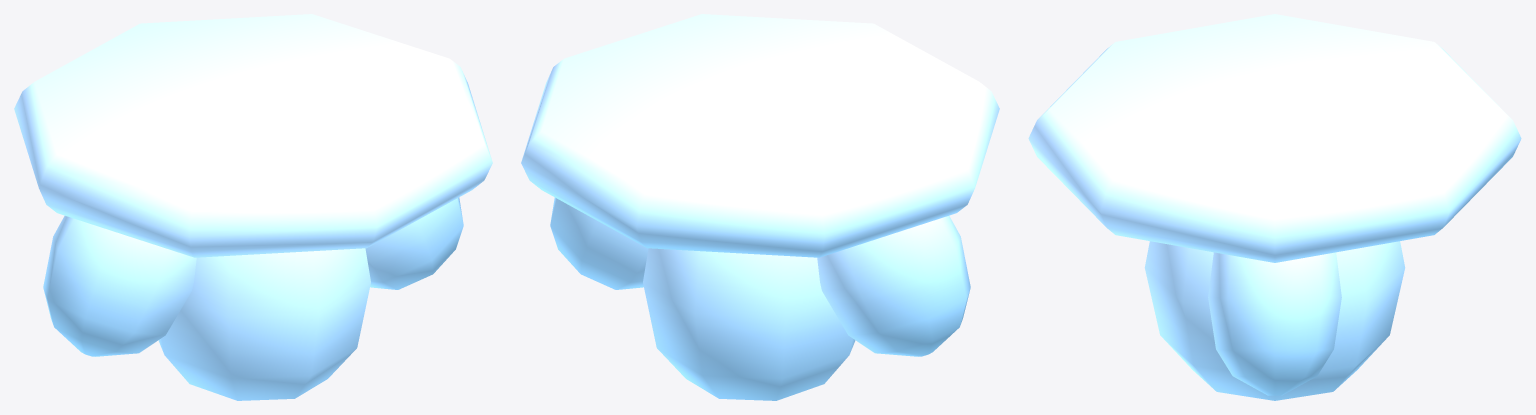
Rendered from steel_pommel_090.glb.
3 views of the same model, side by side, from view 1: azimuth 30°, elevation 25°; view 2: azimuth 150°, elevation 25°; view 3: azimuth 270°, elevation 25° (orthographic).
Parts seen in each view (by area): view 1: steel_pommel_090; view 2: steel_pommel_090; view 3: steel_pommel_090.
Boxes of the visible parts, left/top/right/bottom form: steel_pommel_090: left=14, top=14, right=492, bottom=400; steel_pommel_090: left=521, top=14, right=999, bottom=400; steel_pommel_090: left=1028, top=14, right=1521, bottom=400.
Bounding box in the file's own units: 3.16 × 2.02 × 3.16.
Materials: 1 (1 with a texture image).
